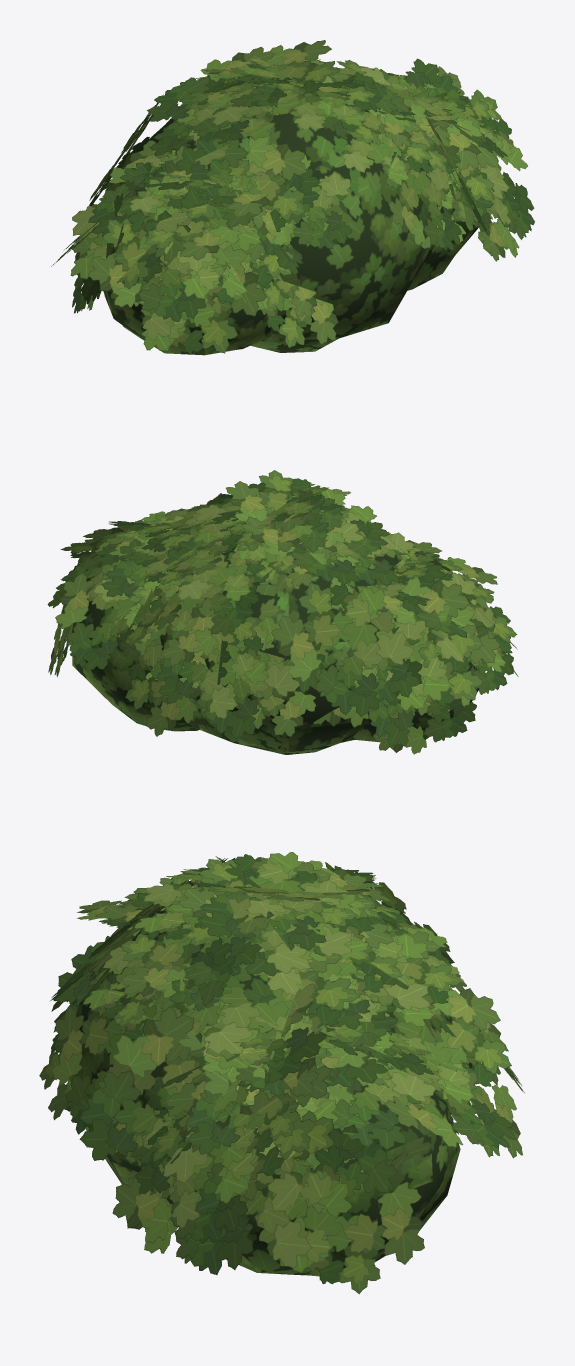
Rendered from bush_round.glb.
The picture shows the model from 3 angles, top to bottom: view 1: azimuth 30°, elevation 25°; view 2: azimuth 150°, elevation 25°; view 3: azimuth 270°, elevation 25°; orthographic projection. The views are drawn at different scales.
Visible parts, largest first — view 1: model; view 2: model; view 3: model.
Part boxes in pixels (x1,y1,x2,y2): model: (51, 40, 534, 355); model: (47, 470, 518, 754); model: (39, 852, 524, 1294).
Size of the model in its own units: 1.97 by 0.9863 by 1.36.
2 materials, 2 textured.
